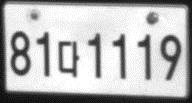1: (110, 31, 127, 81), (135, 31, 152, 81), (86, 32, 103, 79), (35, 30, 50, 77)
8: (10, 31, 30, 75)
9: (159, 33, 182, 80)
다: (57, 39, 80, 78)
